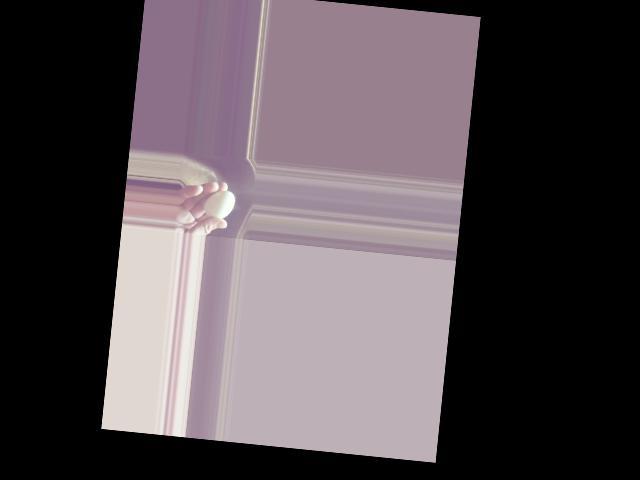egg: (203, 189, 235, 220)
